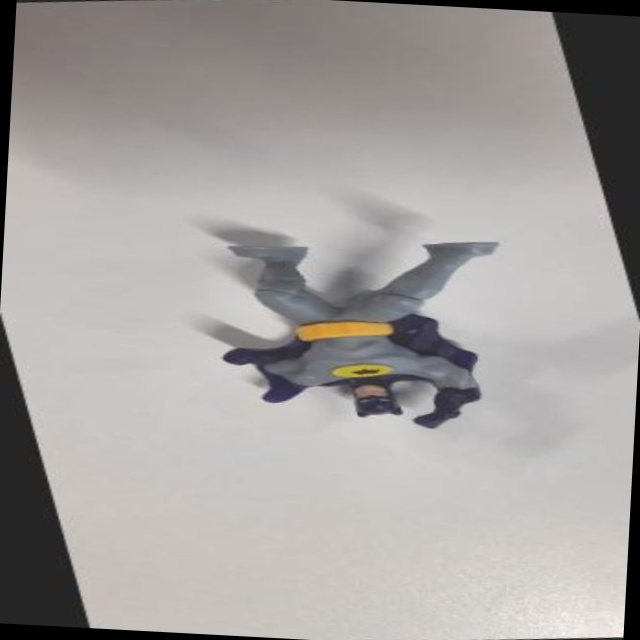Batman: (155, 201, 575, 458)
